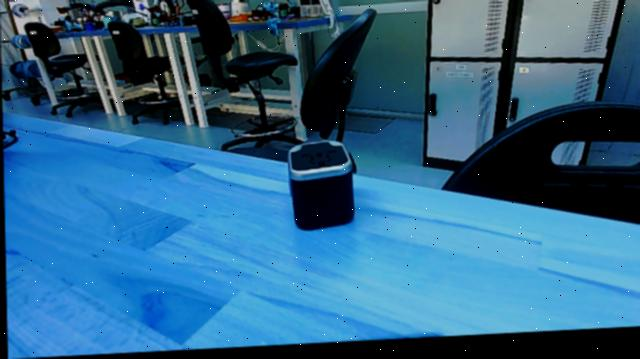adapter: (279, 139, 366, 239)
